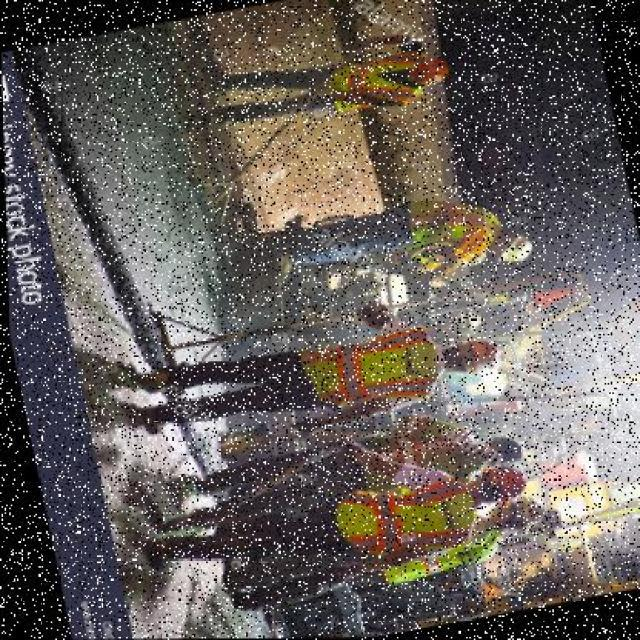helmet: (482, 226, 534, 268)
vest: (323, 463, 483, 569), (286, 319, 447, 420), (391, 180, 504, 268), (308, 46, 424, 119)
